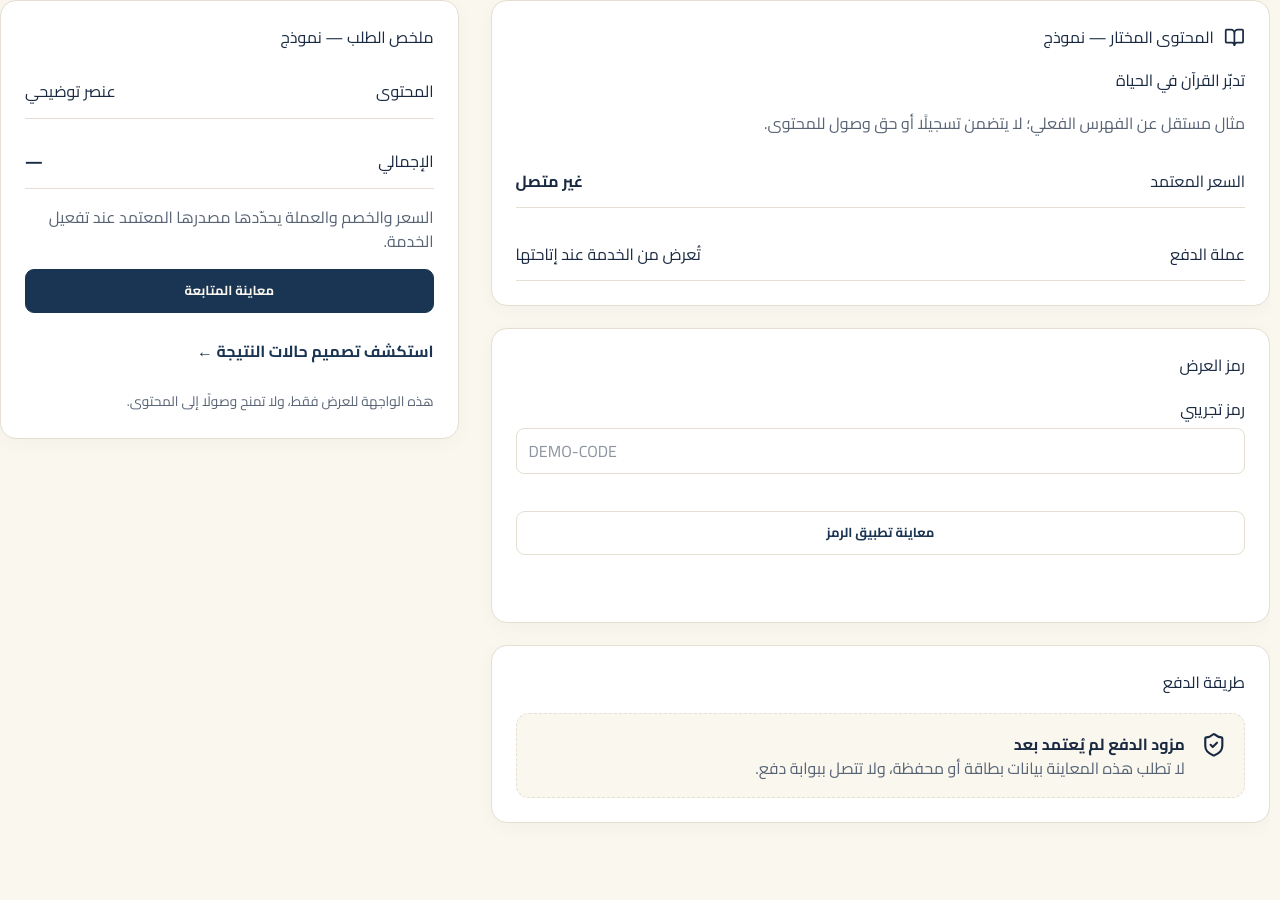
public synthetic experience interactions › does not apply a coupon or compute a price
Type "DEMO" into the field labelled "رمز تجريبي" at (880,450), box [516,428,1245,474]
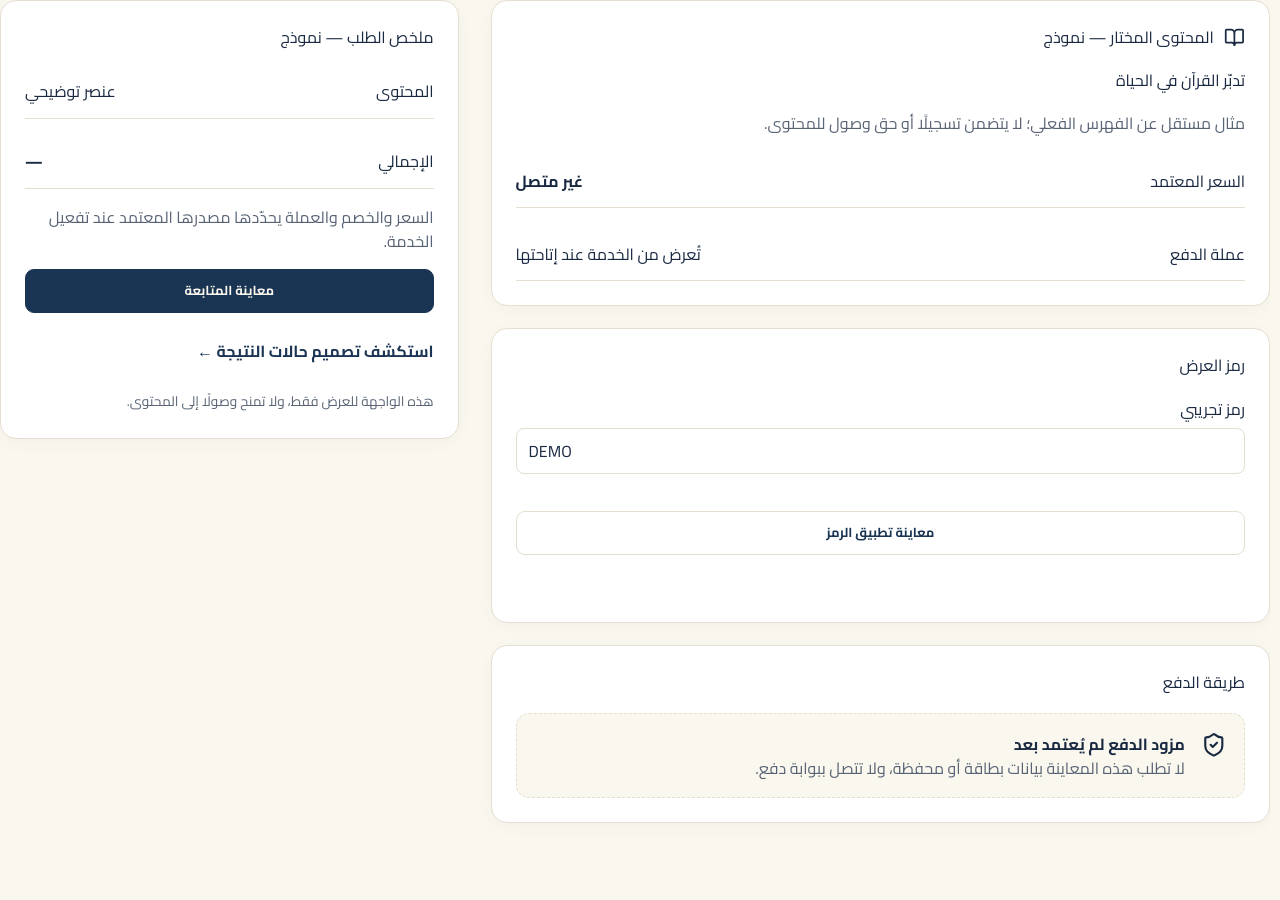
Click the button "معاينة تطبيق الرمز" at (880,533), box [516,511,1245,555]
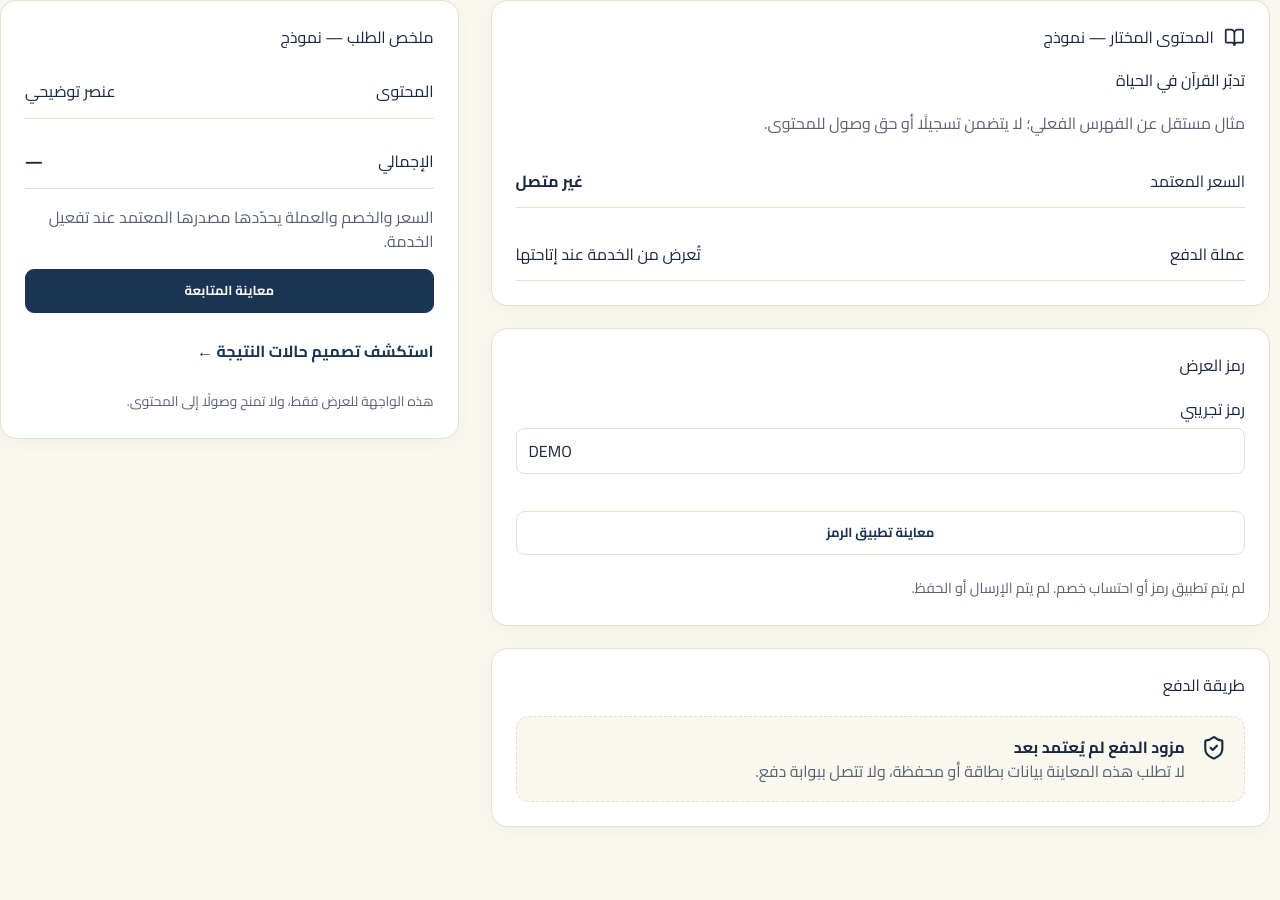
Check: the text "مزود الدفع لم يُعتمد بعد" is shown, box [1014,732,1185,762]
Check: the message shows "لم يتم تطبيق رمز أو احتساب خصم", box [912,574,1245,601]
